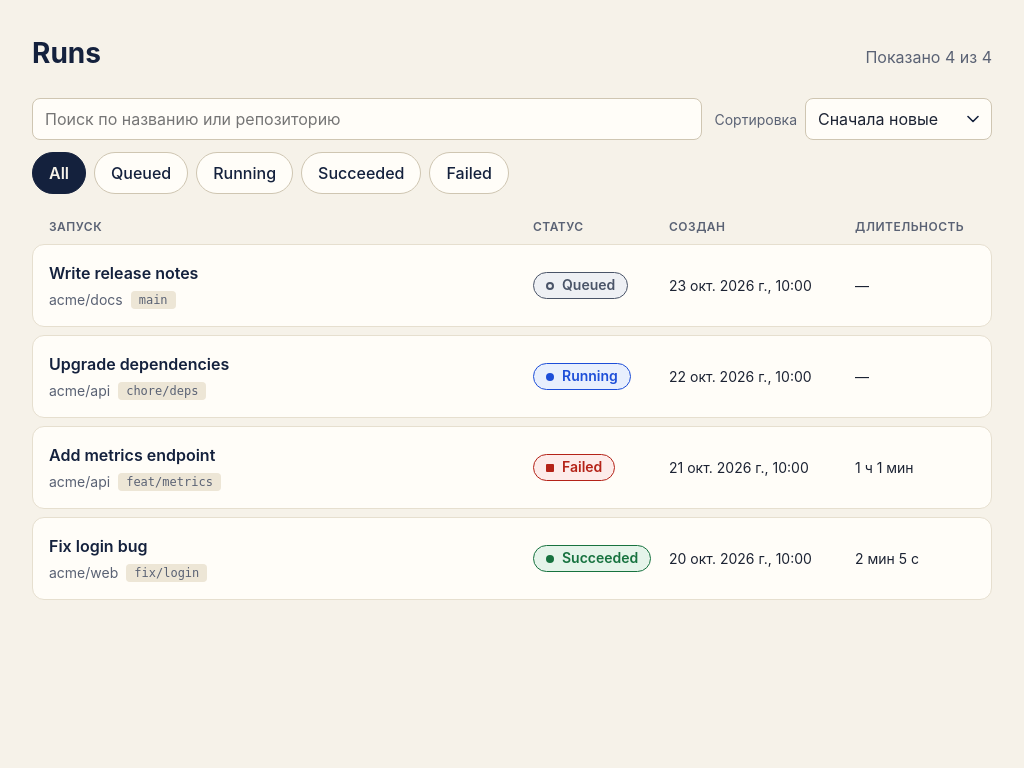
RunsPage › opens run details with logs and result and returns to the list
Click the button "Fix login bug".
click(98, 546)  # box [32,517,992,600]
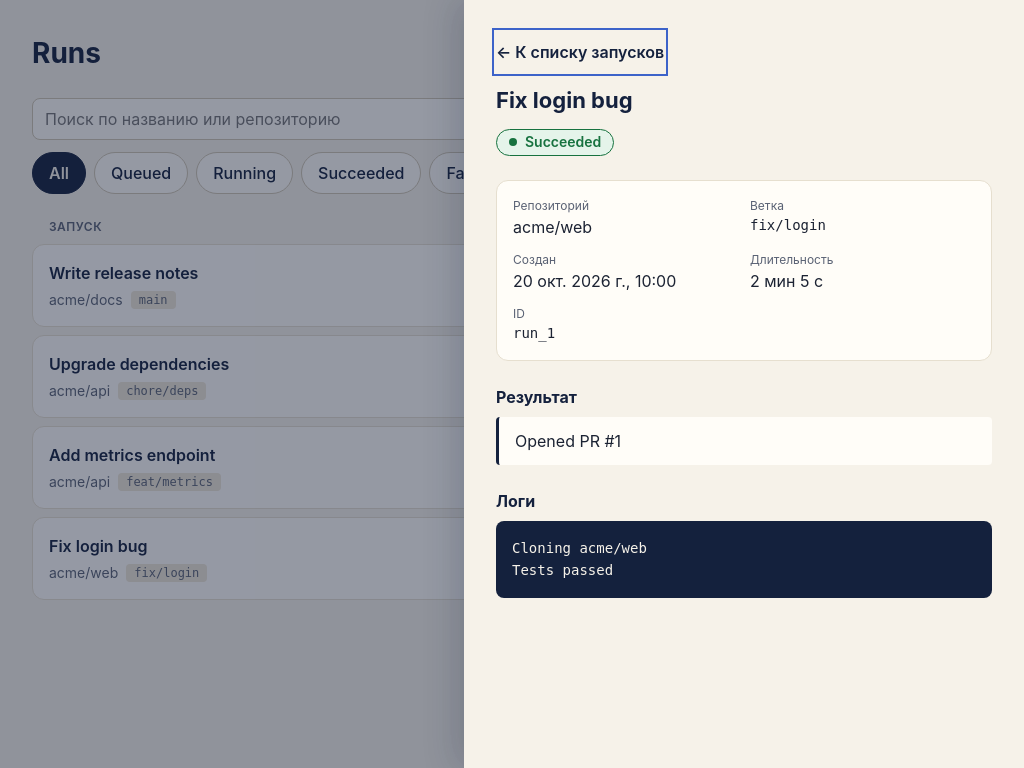
Check: the text "Opened PR #1" is shown, box [496,417,992,465]
Check: the text "Cloning acme/web Tests passed" is shown, box [496,521,992,598]
Check: the text "2 мин 5 с" is shown, box [750,271,823,291]
Click the button "← К списку запусков".
click(580, 52)  # box [496,32,664,72]
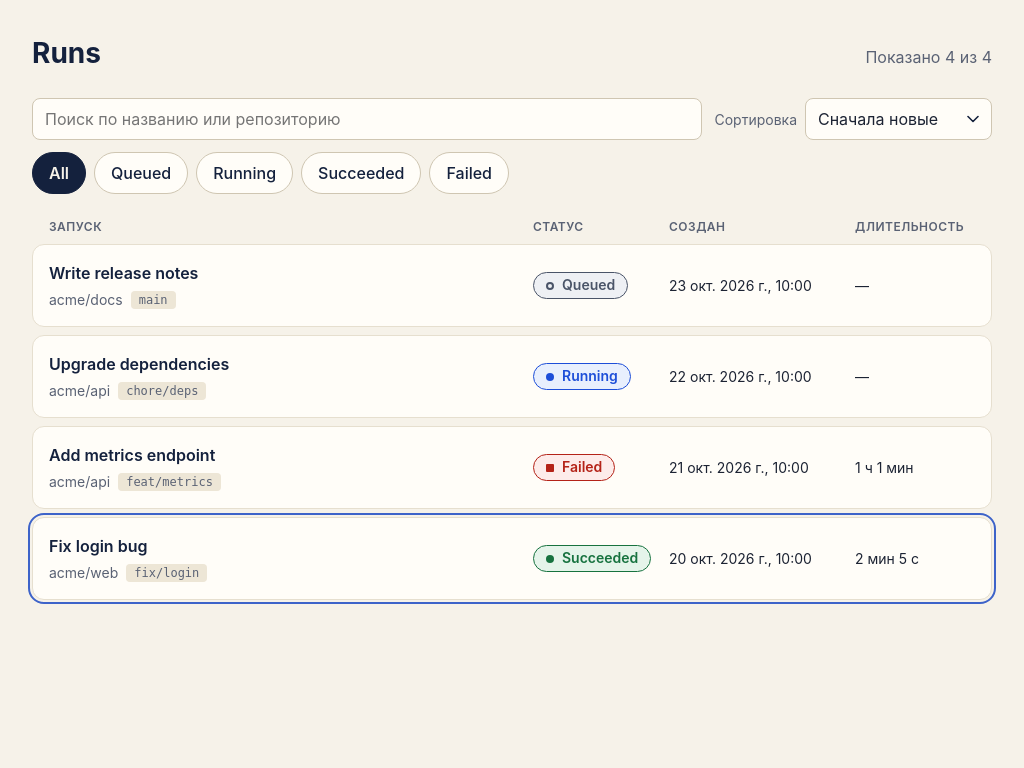
Check: the dialog is gone
